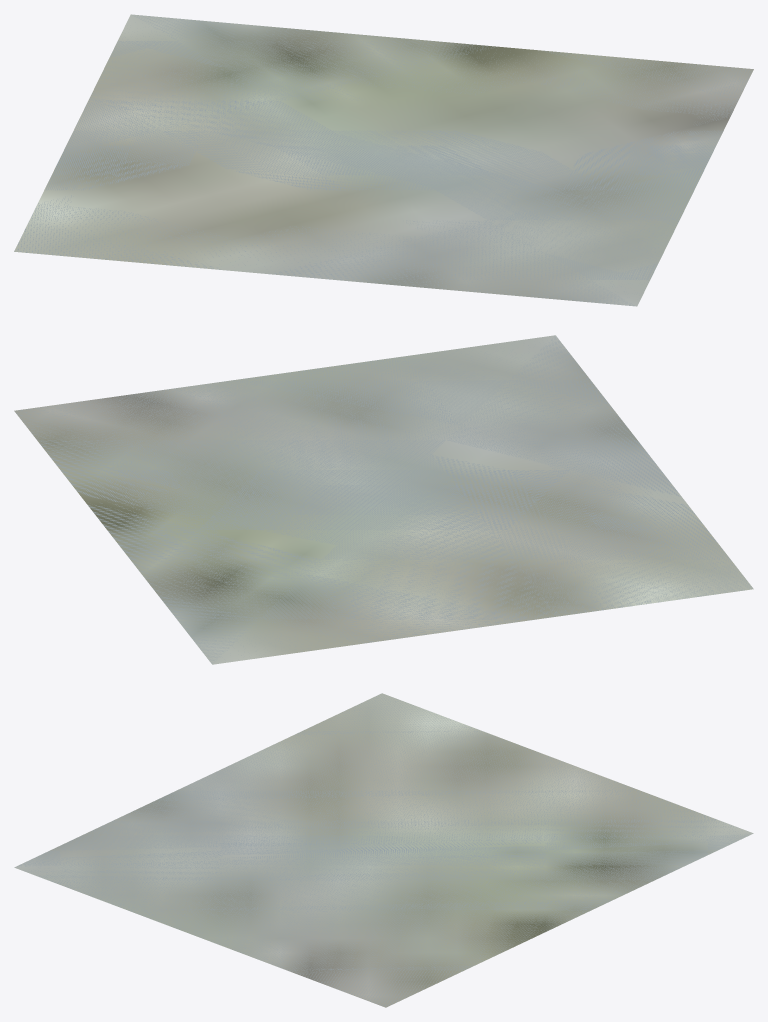
File: 西庸城堡483.dae
The picture shows the model from 3 angles, top to bottom: view 1: azimuth 30°, elevation 25°; view 2: azimuth 150°, elevation 25°; view 3: azimuth 270°, elevation 25°; orthographic projection. The views are drawn at different scales.
Parts seen in each view (by area): view 1: SketchUp; view 2: SketchUp; view 3: SketchUp.
Boxes of the visible parts, x1,y1,x2,y2 form: SketchUp: (14,14,753,306); SketchUp: (14,335,753,664); SketchUp: (14,693,753,1007).
Bounding box in the file's own units: 39.75 × 39.52 × 0.
